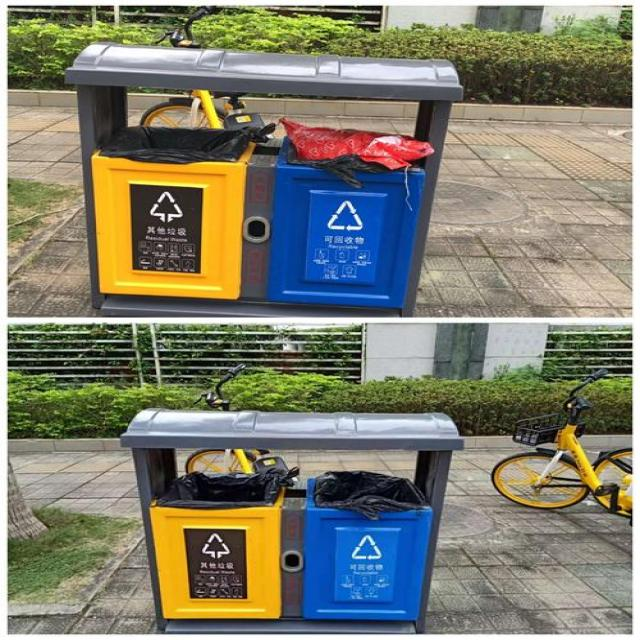garbage_bin: (120, 407, 461, 632)
overflow: (63, 41, 461, 315)
